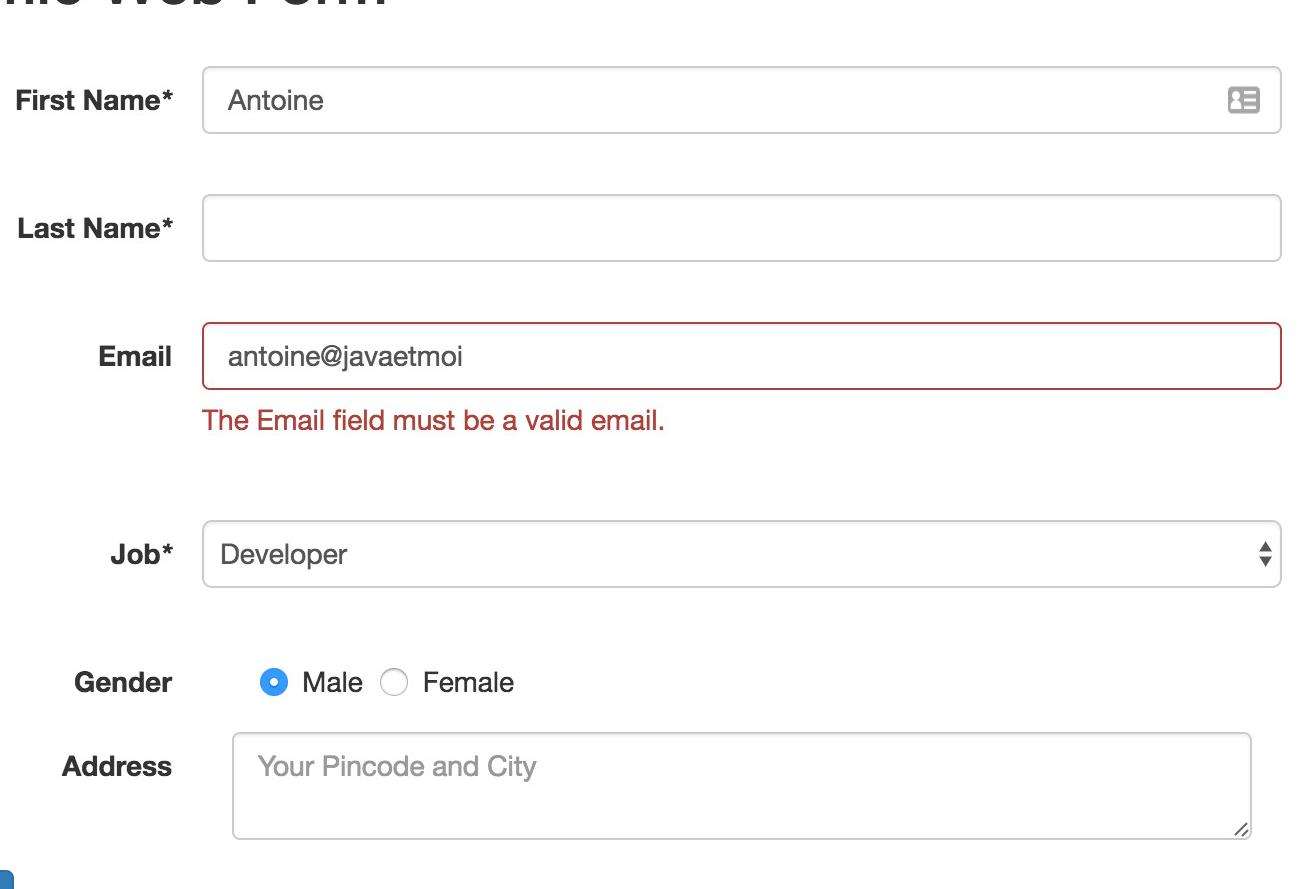field: (226, 729, 1256, 842), (194, 517, 1288, 594), (199, 319, 1292, 393), (199, 191, 1288, 265), (196, 62, 1284, 136)
field_with_label: (63, 722, 1263, 847), (13, 188, 1295, 271), (12, 59, 1290, 142), (107, 512, 1299, 598), (92, 314, 1299, 396)
radio: (256, 662, 295, 699), (378, 661, 413, 701)
radio_with_label: (375, 656, 515, 705), (249, 658, 363, 701)
